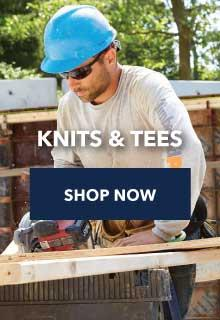helmet: (40, 5, 121, 75)
